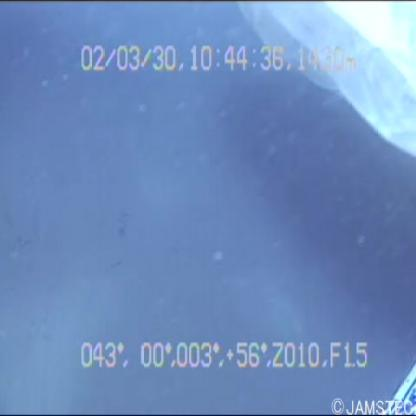Rác: (229, 1, 416, 160)
